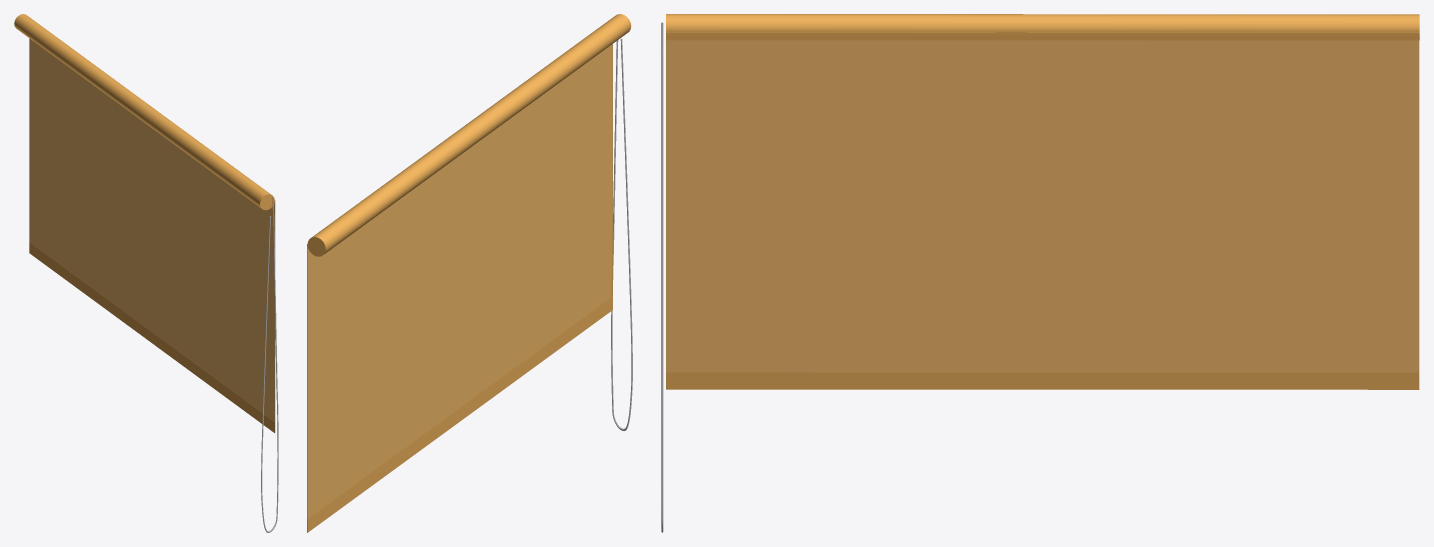
The model's file is blinds.FBX.
The picture shows the model from 3 angles, left to right: view 1: azimuth 30°, elevation 25°; view 2: azimuth 150°, elevation 25°; view 3: azimuth 270°, elevation 25°; orthographic projection. The views are drawn at different scales.
Visible parts, largest first — view 1: blind, blind1, blind2, blind3; view 2: blind, blind1, blind2, blind3; view 3: blind, blind1, blind2, blind3.
Part boxes in pixels (box(x1,y1,x2,y2)): blind: box(29, 38, 275, 431); blind1: box(14, 14, 274, 210); blind2: box(29, 242, 275, 432); blind3: box(261, 196, 278, 532); blind: box(307, 44, 612, 531); blind1: box(307, 14, 631, 256); blind2: box(307, 296, 612, 532); blind3: box(611, 38, 632, 430); blind: box(666, 32, 1419, 387); blind1: box(666, 14, 1419, 40); blind2: box(666, 372, 1419, 389); blind3: box(661, 22, 663, 532).
Size of the model in its own units: 6.88 by 127 by 168.
